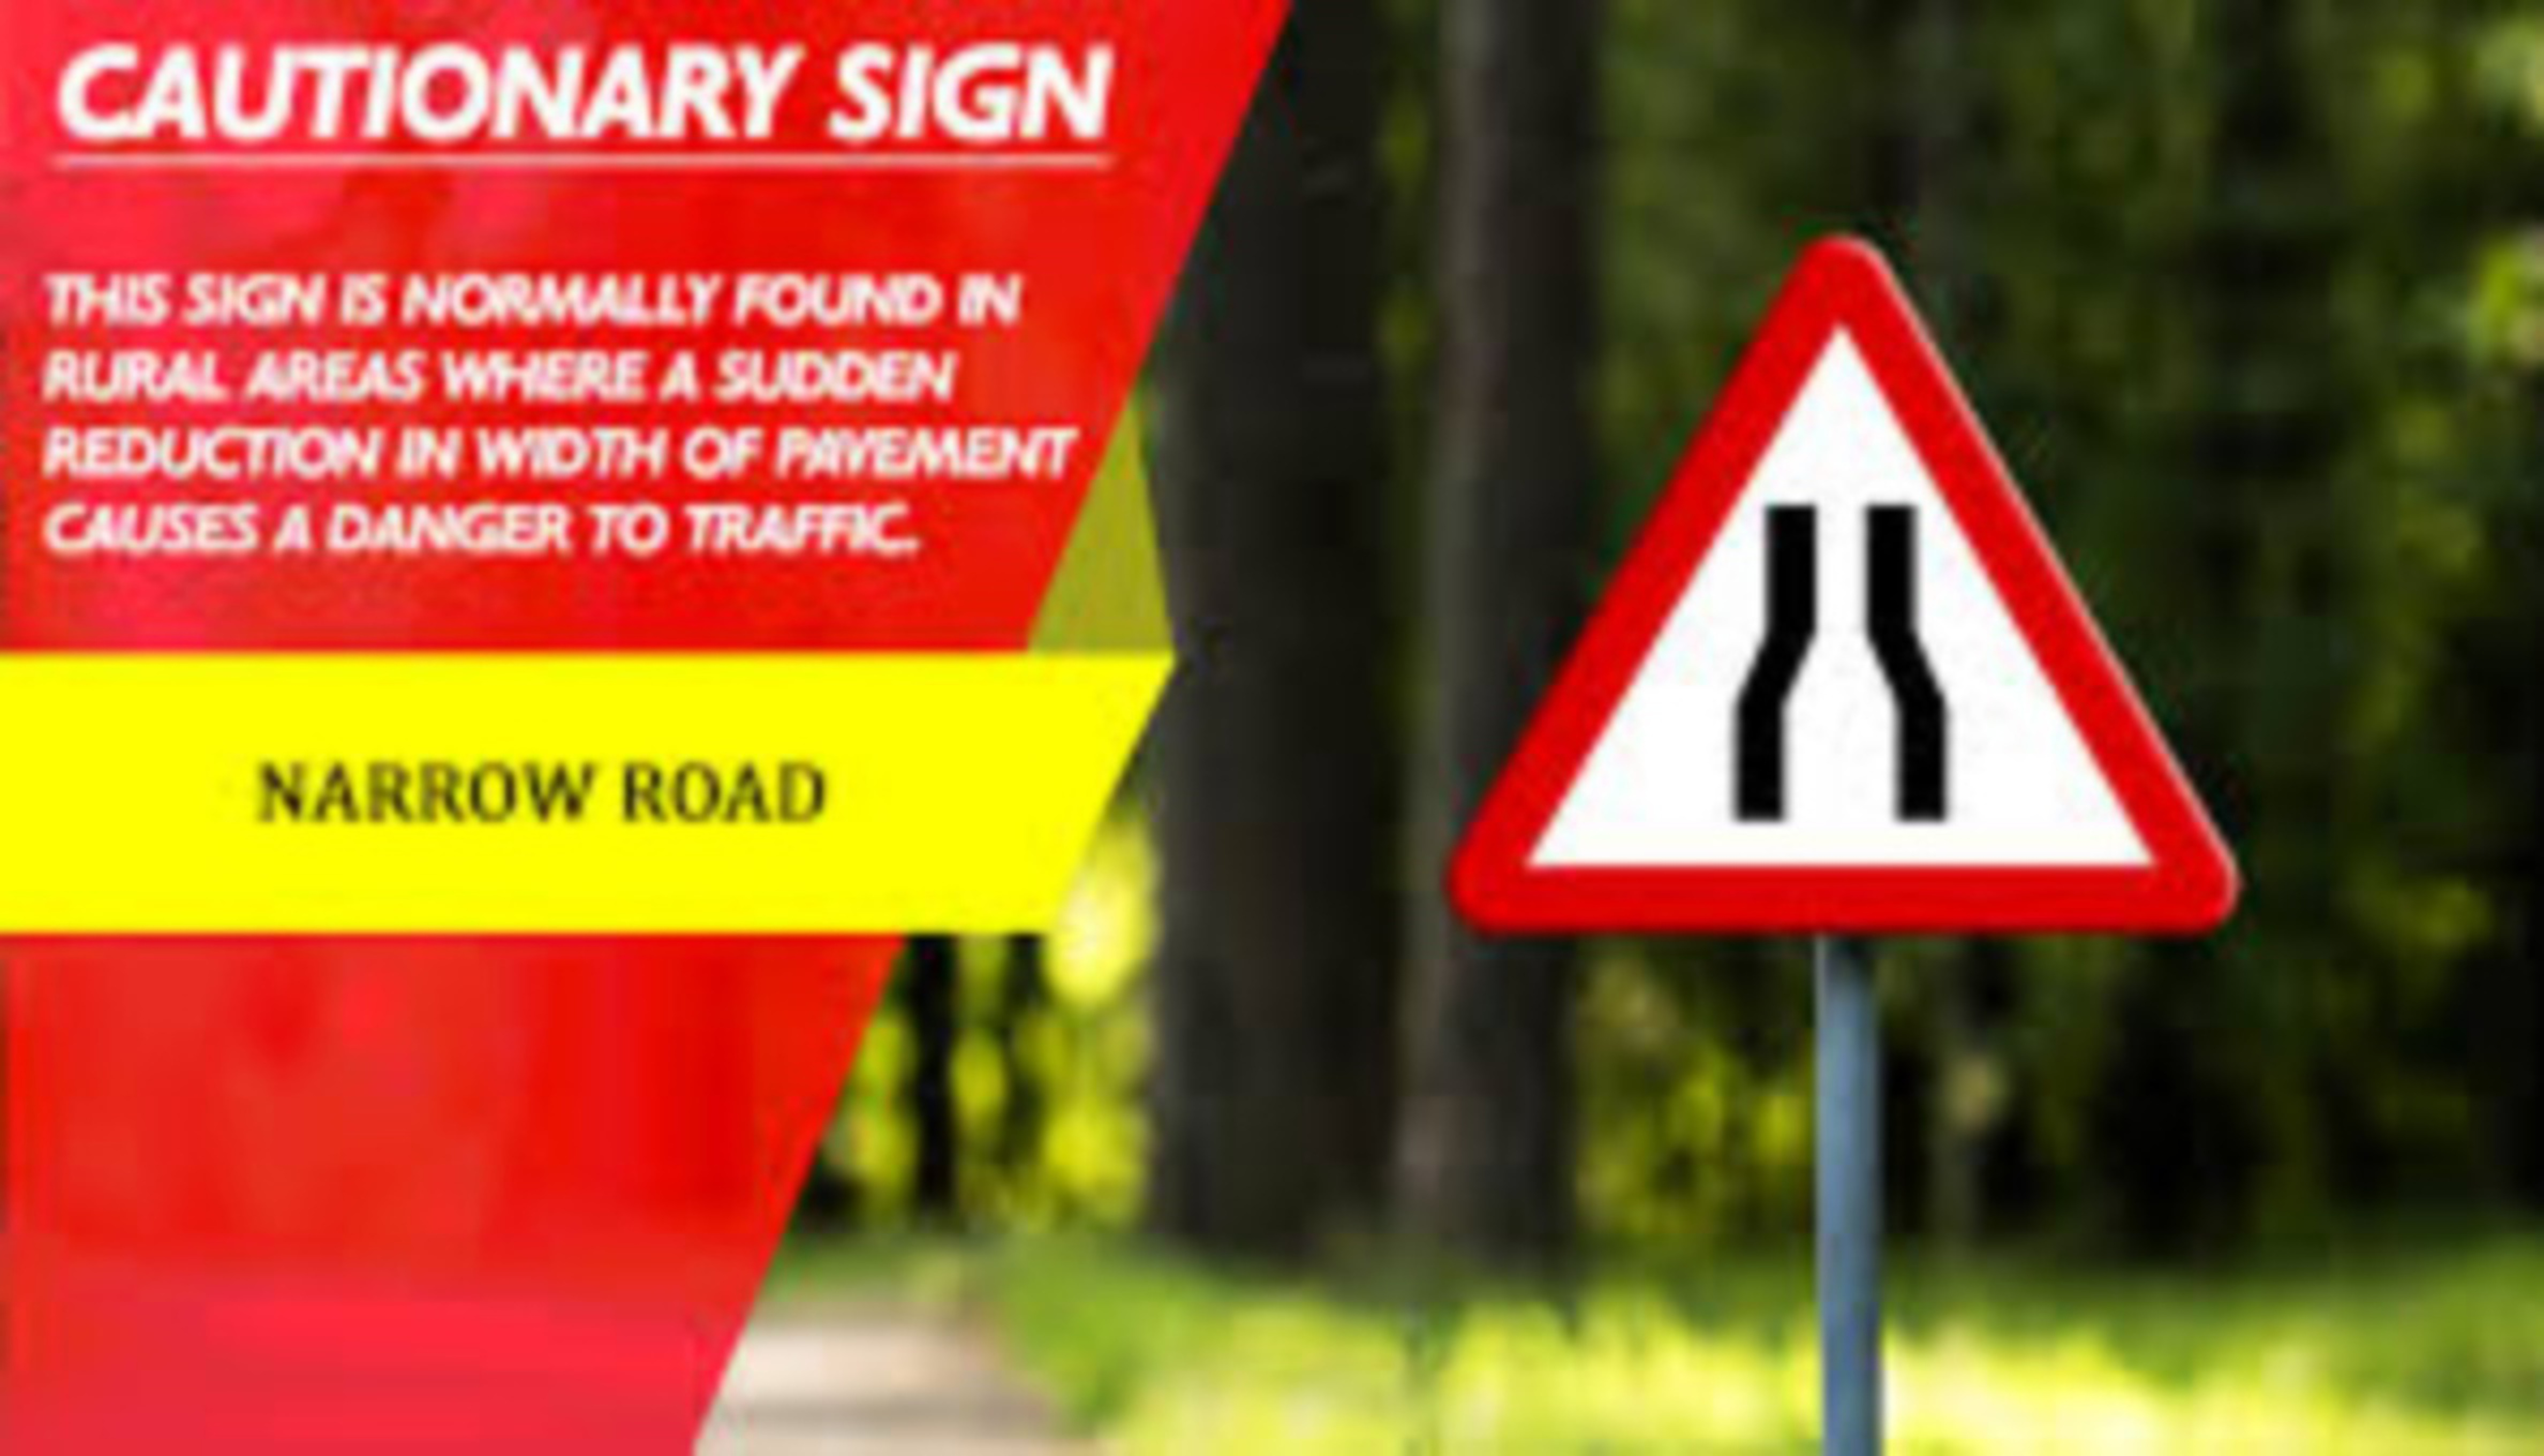Narrow_road: (1441, 213, 2252, 939)
